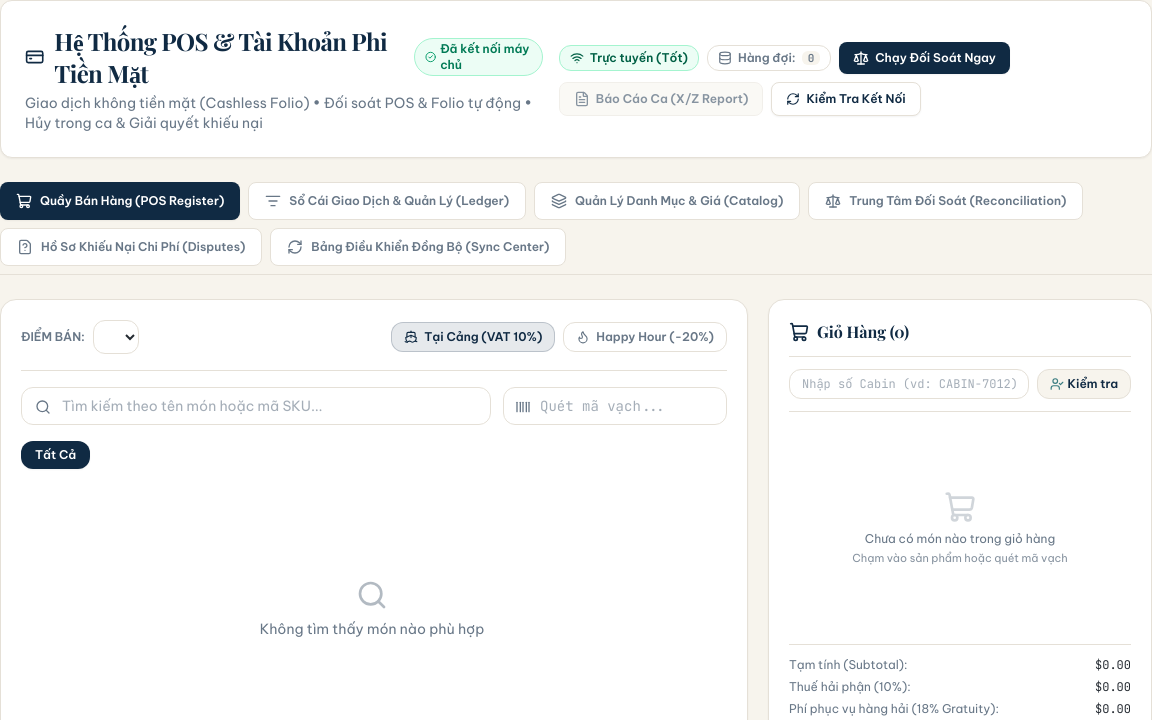
Scenario: PosPage Dashboard Integration Tests (KAN-401) › renders error and retry action in Reconciliation tab when load fails, then clears on retry
This screenshot has width=1152, height=720.
Step 1. Click the button "Trung Tâm Đối Soát (Reconciliation)" → point(946, 201), box [808, 182, 1083, 220]
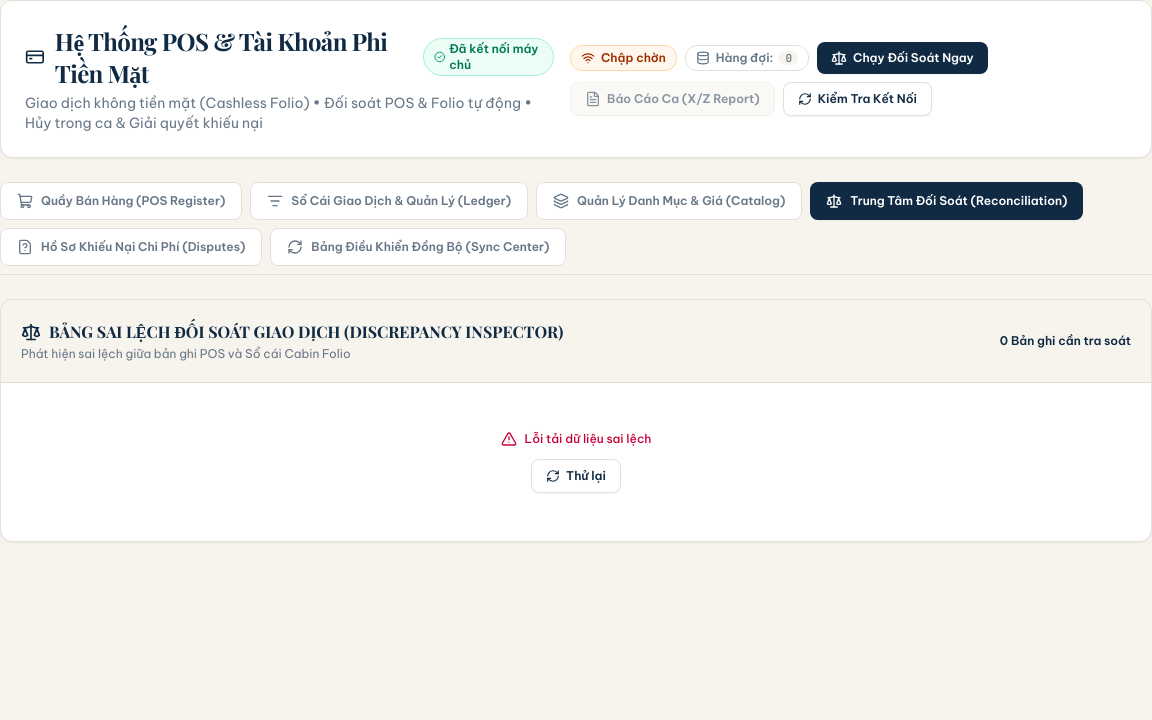
Expected: the text "Không phát hiện sai lệch nào. Toàn bộ giao dịch POS và Folio đã khớp hoàn hảo!" is not shown
Expected: the text "Lỗi tải dữ liệu sai lệch" is shown, [525, 431, 651, 447]
Expected: the button "Thử lại" is shown
Step 2. Click the button "Thử lại" → point(576, 476), box [531, 459, 621, 493]
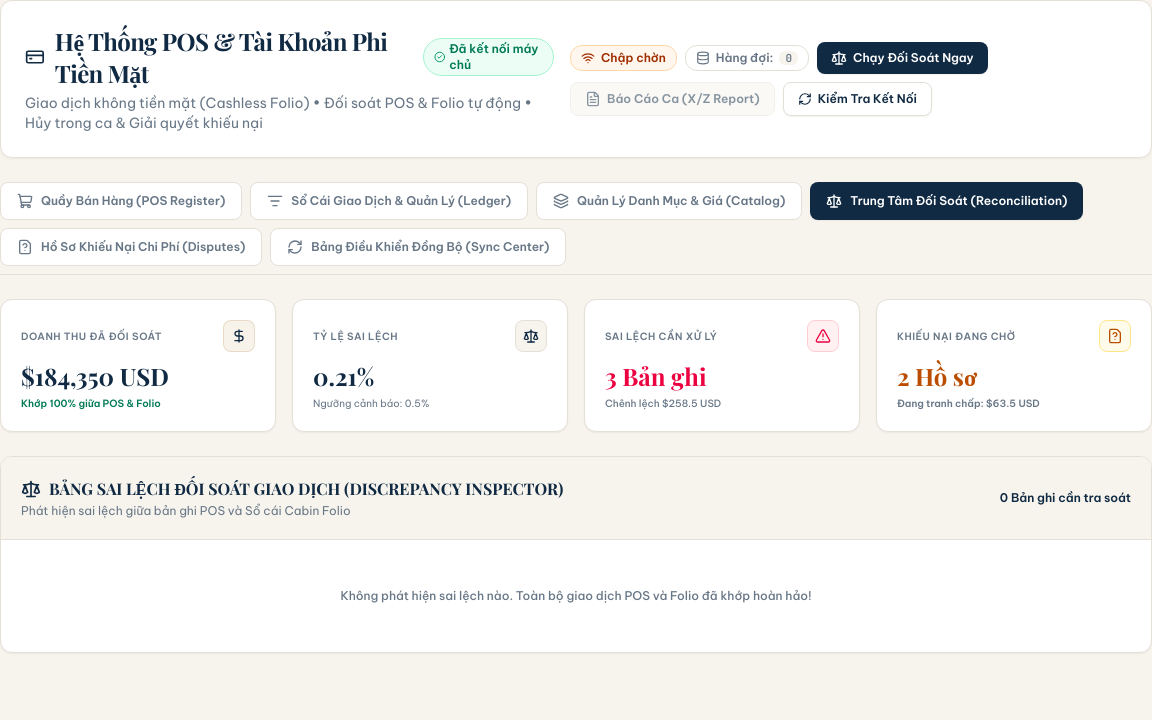
Expected: the text "Lỗi tải dữ liệu sai lệch" is gone
Expected: the text "Không phát hiện sai lệch nào. Toàn bộ giao dịch POS và Folio đã khớp hoàn hảo!" is shown, [340, 588, 812, 603]
